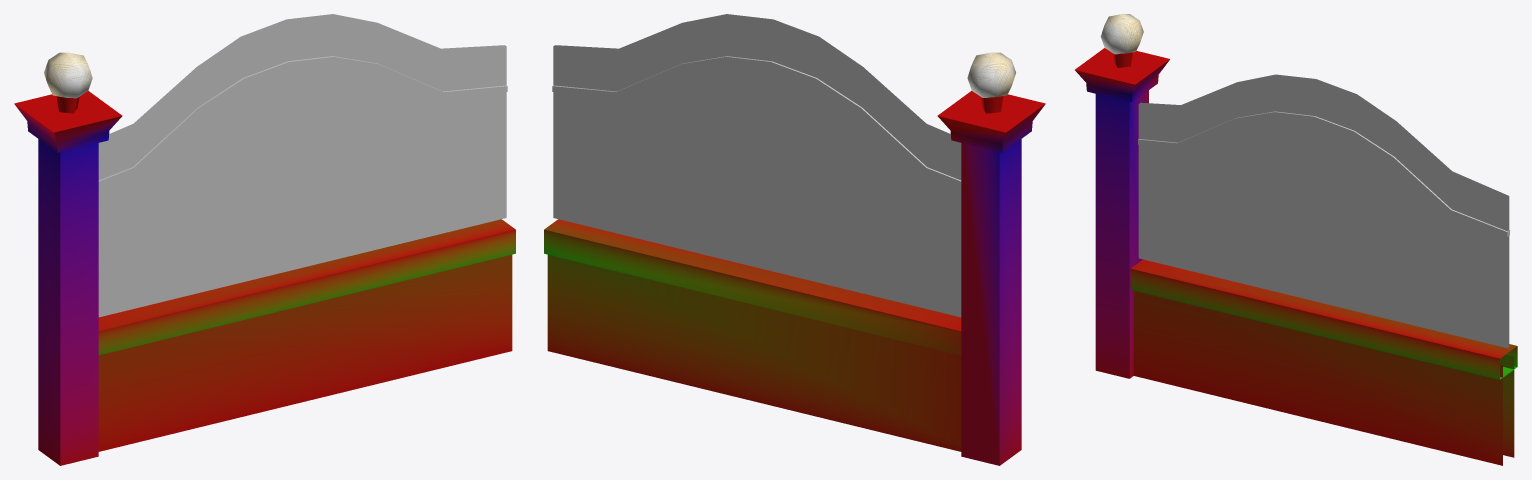
Rendered from Fancygate_01.FBX.
3 renders of one model, left to right at view 1: azimuth 30°, elevation 25°; view 2: azimuth 150°, elevation 25°; view 3: azimuth 330°, elevation 25°, orthographic. The views are drawn at different scales.
Visible parts, largest first — view 1: Plane080, Box023, Line035, Box024; view 2: Plane080, Box023, Line035, Box024; view 3: Plane080, Box023, Line035, Box024.
Boxes of the visible parts, x1,y1,x2,y2 form: Plane080: (98, 14, 506, 317); Box023: (14, 91, 515, 465); Line035: (98, 56, 507, 187); Box024: (44, 52, 92, 98); Plane080: (553, 14, 961, 317); Box023: (544, 90, 1045, 465); Line035: (552, 56, 961, 186); Box024: (967, 52, 1015, 97); Plane080: (1138, 74, 1509, 348); Box023: (1075, 48, 1517, 465); Line035: (1138, 111, 1510, 236); Box024: (1100, 14, 1143, 54).
Size of the model in its own units: 432 by 350 by 63.
